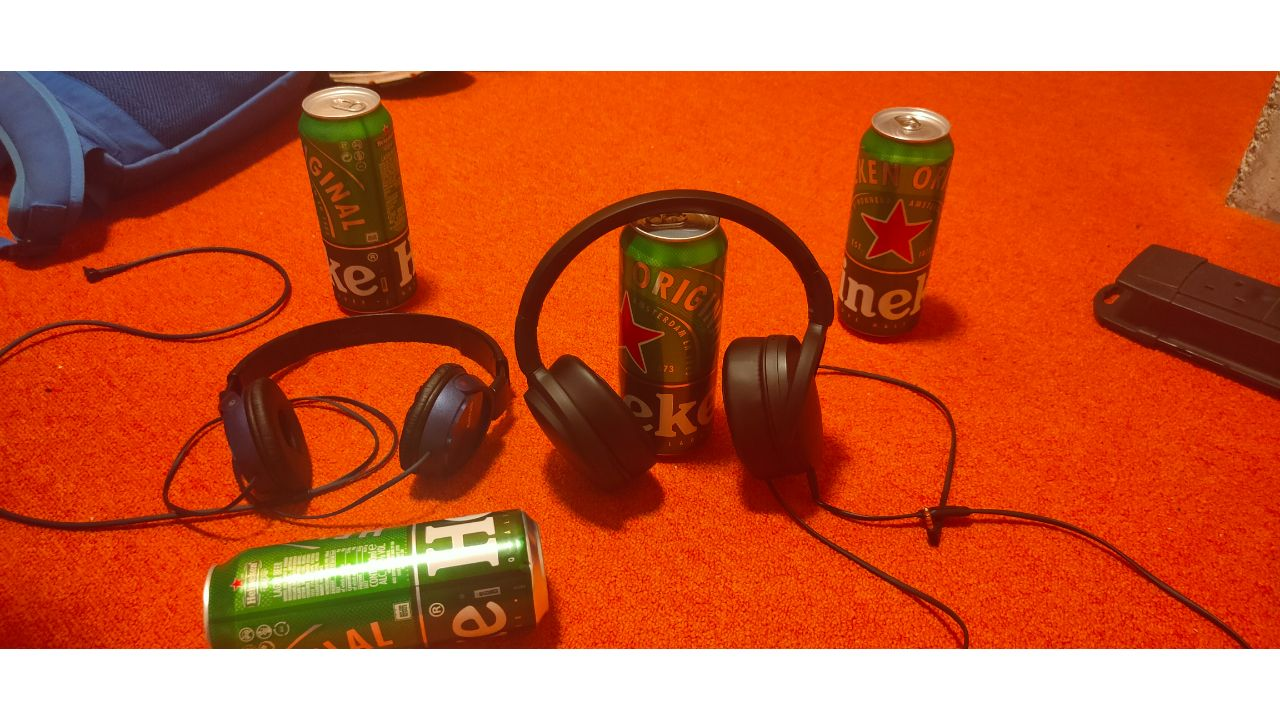Can: (202, 510, 558, 655), (298, 87, 418, 313), (615, 204, 718, 460), (840, 108, 955, 336)
